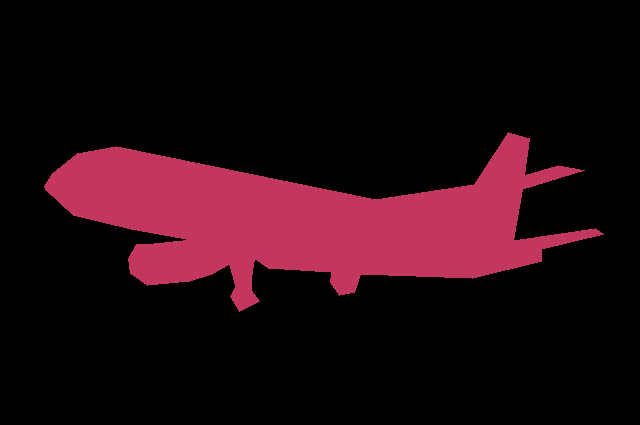Airplane: (44, 132, 604, 312)
